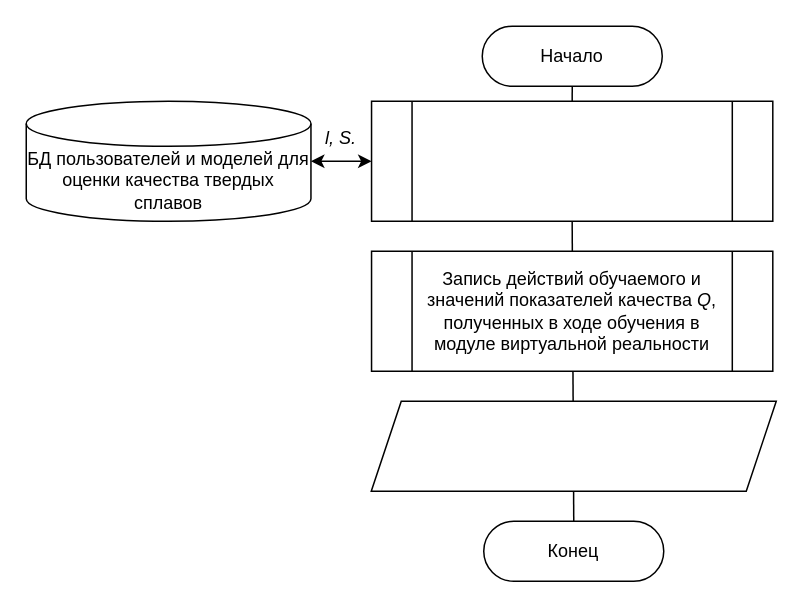
Some shapes in this 803 by 608 pixel diagram are drawn without their labels. The centre of each missing label's shape, as x and y in pixels:
"Выбор сценария обучения S для обучаемого l" belongs at point 571,160.
"Вывод протокола обучения P" belongs at point 573,445.
